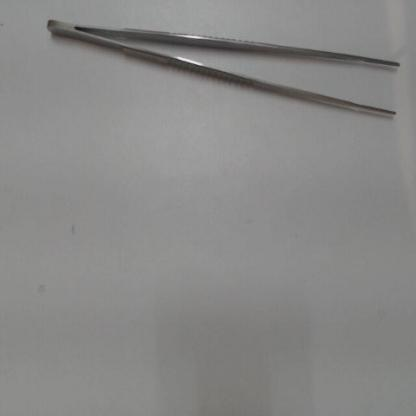DeBakey Dissector: (38, 15, 414, 144)
